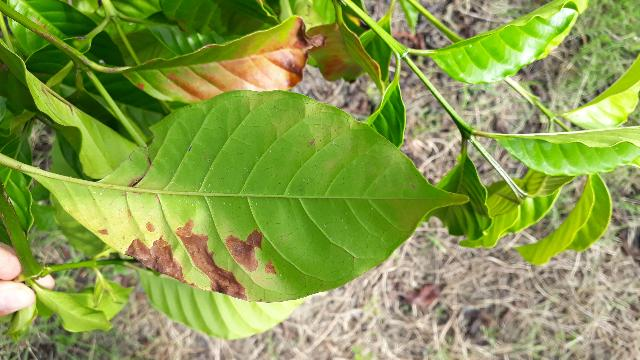red_spider_mite: (33, 90, 467, 301)
